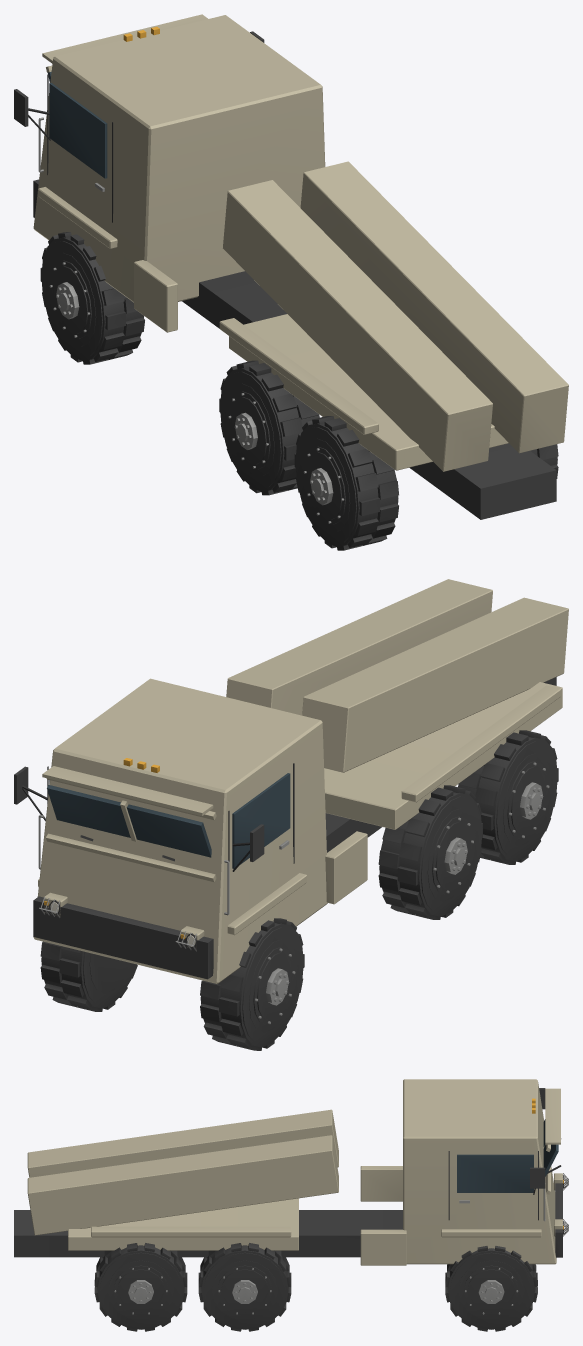
Rendered from usa_cst_nsm.glb.
The picture shows the model from 3 angles, top to bottom: view 1: azimuth 30°, elevation 25°; view 2: azimuth 150°, elevation 25°; view 3: azimuth 270°, elevation 25°; orthographic projection. The views are drawn at different scales.
Parts seen in each view (by area): view 1: body, barrel, wheel_4, wheel_0, wheel_2, turret; view 2: body, barrel, wheel_2, turret, wheel_0, wheel_4, wheel_1; view 3: body, barrel, wheel_3, wheel_5, wheel_1, turret.
Part boxes in pixels (x1,y1,x2,y2): body: [14, 14, 556, 519]; barrel: [223, 161, 568, 471]; wheel_4: [294, 416, 398, 550]; wheel_0: [40, 232, 144, 364]; wheel_2: [219, 360, 319, 495]; turret: [229, 314, 508, 470]; body: [14, 677, 560, 983]; barrel: [226, 579, 568, 772]; wheel_2: [378, 785, 482, 919]; turret: [324, 682, 562, 829]; wheel_0: [200, 918, 304, 1050]; wheel_4: [458, 730, 558, 864]; wheel_1: [40, 941, 137, 1011]; body: [14, 1079, 568, 1265]; barrel: [27, 1109, 338, 1235]; wheel_3: [198, 1243, 291, 1331]; wheel_5: [94, 1243, 187, 1331]; wheel_1: [445, 1246, 537, 1331]; turret: [68, 1198, 298, 1250].
Bounding box in the file's own units: 2.4 × 2.7 × 7.
